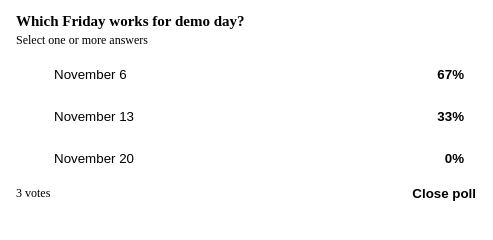
Scenario: ClassicPoll › explains failed votes
Step 1. Click the button with aria-label "November 20: 0%" → coordinates (94, 158), box [16,140,476,176]
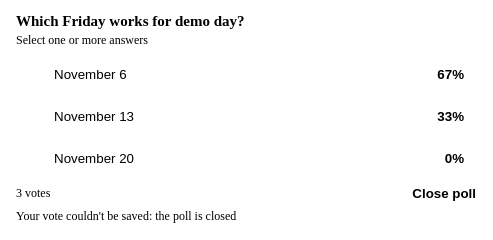
Now the text "Your vote couldn't be saved: the poll is closed" is shown, box [16,209,236,223]
